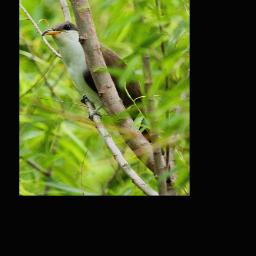Cuckoo: (37, 20, 174, 156)
